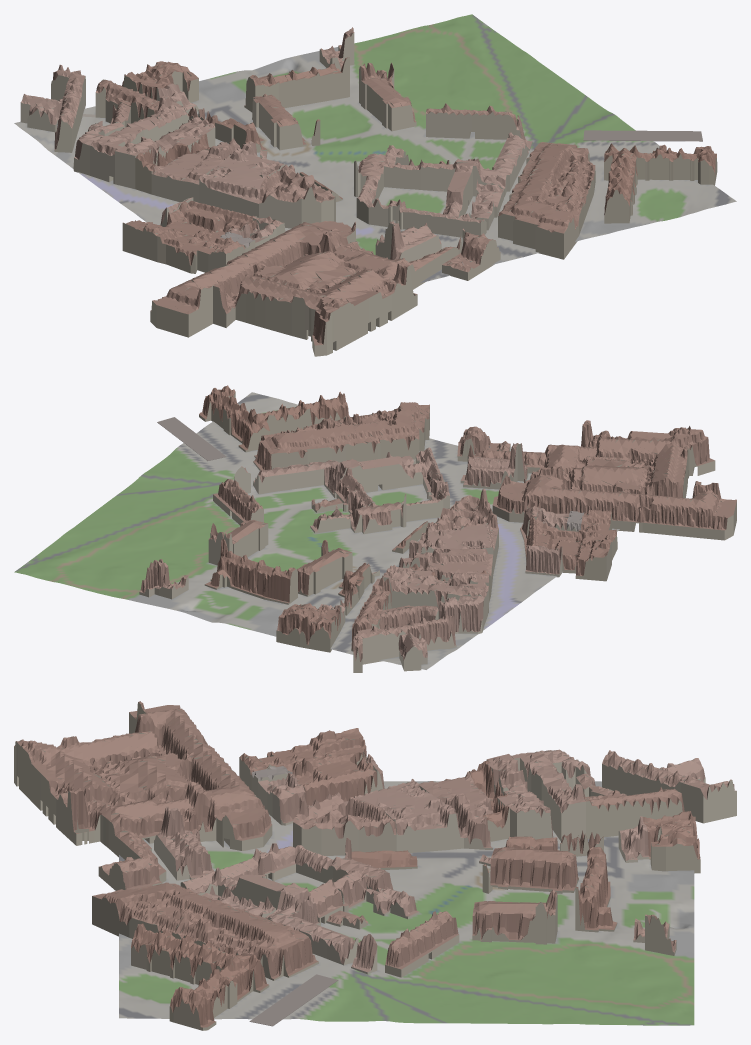
3 views of the same model, one above another, from view 1: azimuth 30°, elevation 25°; view 2: azimuth 150°, elevation 25°; view 3: azimuth 270°, elevation 25° (orthographic). The views are drawn at different scales.
Visible parts, largest first — view 1: ground, b:way/40937938, b:way/4273290, b:way/229676051, b:way/161131041, b:way/147487949, b:way/229676052, b:way/229676053, b:way/147487979, b:way/135595983, b:way/1047150807, b:way/147487969 (+20 smaller); view 2: ground, b:way/40937938, b:way/4273290, b:way/161131041, b:way/229676051, b:way/147487949, b:way/147487979, b:way/147456534, b:way/147487988, b:way/147487959, b:way/135595983, b:way/1047150807 (+19 smaller); view 3: ground, b:way/40937938, b:way/4273290, b:way/161131041, b:way/229676051, b:way/229676053, b:way/147487949, b:way/229676052, b:way/147456534, b:way/147487971, b:way/13219585, b:way/135595983 (+28 smaller).
Part boxes in pixels (<box>): ground: <box>14,14,736,282</box>; b:way/40937938: <box>150,221,462,356</box>; b:way/4273290: <box>498,142,595,259</box>; b:way/229676051: <box>122,200,256,273</box>; b:way/161131041: <box>604,143,717,223</box>; b:way/147487949: <box>356,162,486,237</box>; b:way/229676052: <box>199,141,287,217</box>; b:way/229676053: <box>259,164,335,228</box>; b:way/147487979: <box>244,57,349,112</box>; b:way/135595983: <box>90,95,189,183</box>; b:way/1047150807: <box>151,138,240,202</box>; b:way/147487969: <box>426,103,517,139</box>; ground: <box>14,392,619,669</box>; b:way/40937938: <box>467,420,736,540</box>; b:way/4273290: <box>253,402,429,470</box>; b:way/161131041: <box>199,385,348,452</box>; b:way/229676051: <box>524,509,617,581</box>; b:way/147487949: <box>346,447,449,521</box>; b:way/147487979: <box>204,538,297,604</box>; b:way/147456534: <box>353,613,456,672</box>; b:way/147487988: <box>276,603,340,652</box>; b:way/147487959: <box>253,458,352,497</box>; b:way/135595983: <box>374,575,488,623</box>; b:way/1047150807: <box>399,548,493,594</box>; ground: <box>119,781,694,1025</box>; b:way/40937938: <box>14,701,272,884</box>; b:way/4273290: <box>92,882,318,980</box>; b:way/161131041: <box>131,923,269,1030</box>; b:way/229676051: <box>239,728,377,805</box>; b:way/229676053: <box>293,792,396,855</box>; b:way/147487949: <box>180,843,341,909</box>; b:way/229676052: <box>345,779,463,852</box>; b:way/147456534: <box>602,750,736,823</box>; b:way/147487971: <box>472,890,557,944</box>; b:way/13219585: <box>490,847,578,893</box>; b:way/135595983: <box>511,750,585,841</box>.
Bounding box in the file's own units: 323 × 25.96 × 314.
